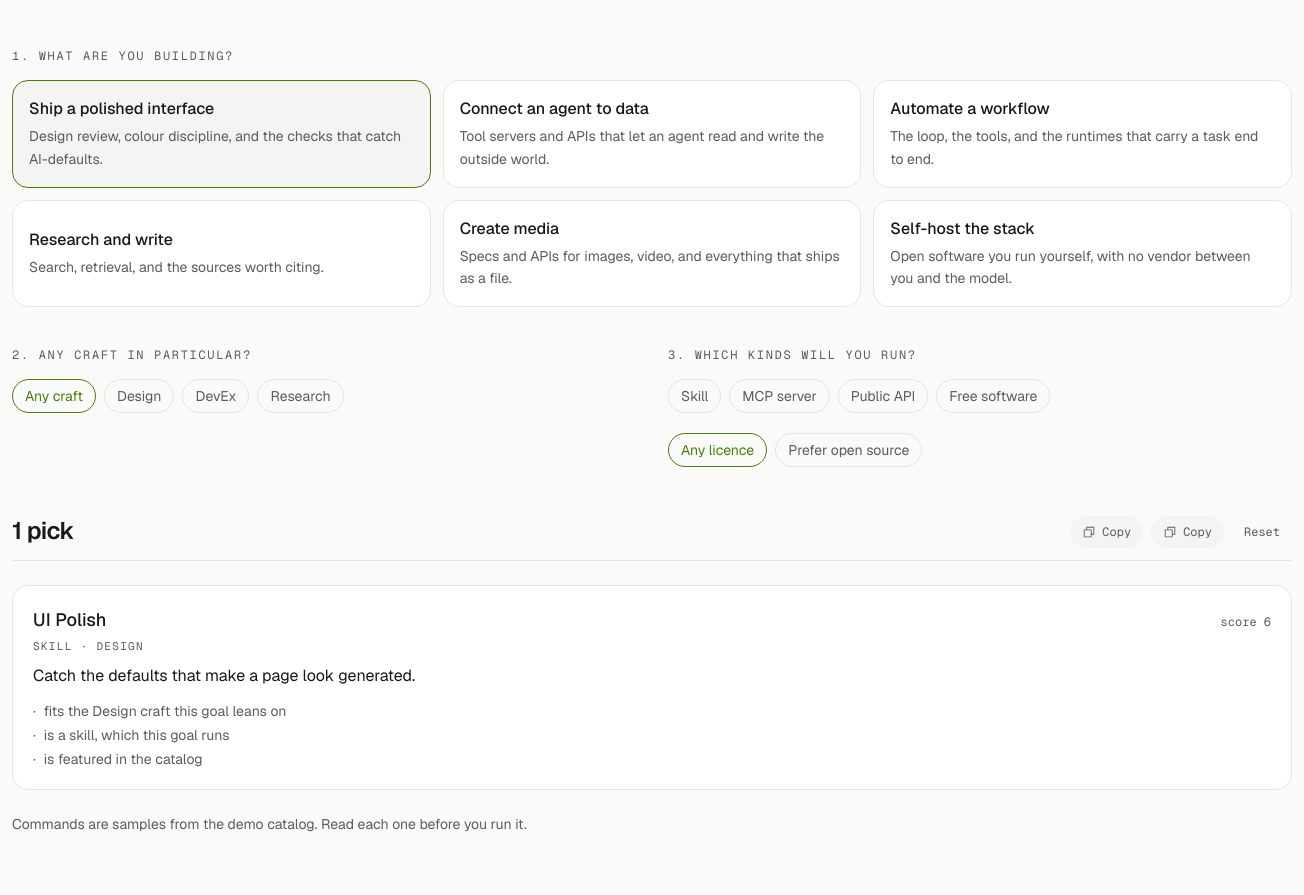
Test: StackChooser › resets every answer back to the start
Click the button "Connect an agent to data".
click(652, 134)  # box top-left (443, 80), bottom-right (861, 188)
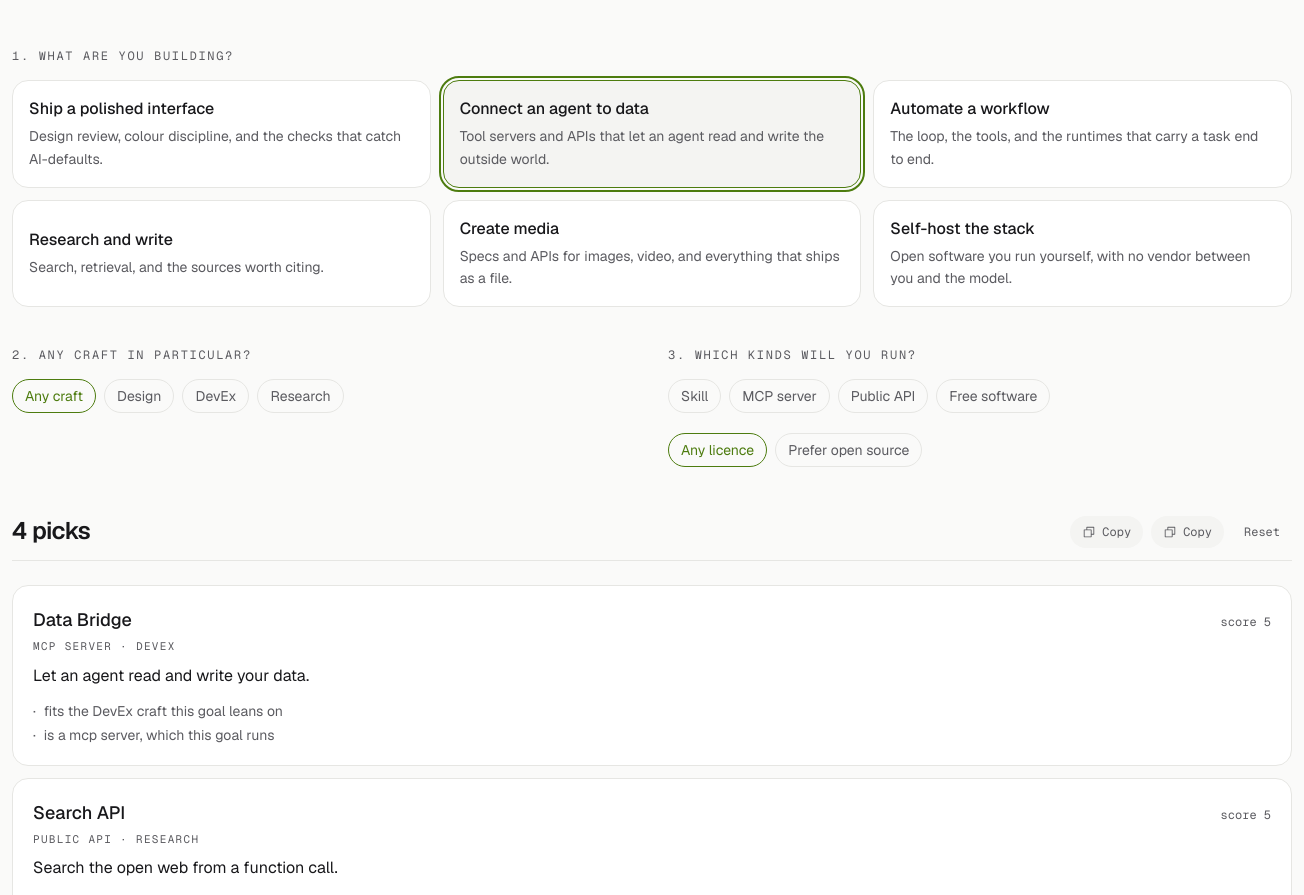
Now the heading "4 picks" is shown, box top-left (12, 515), bottom-right (90, 547)
Click the button "Reset".
click(1262, 532)  # box top-left (1232, 524), bottom-right (1292, 540)
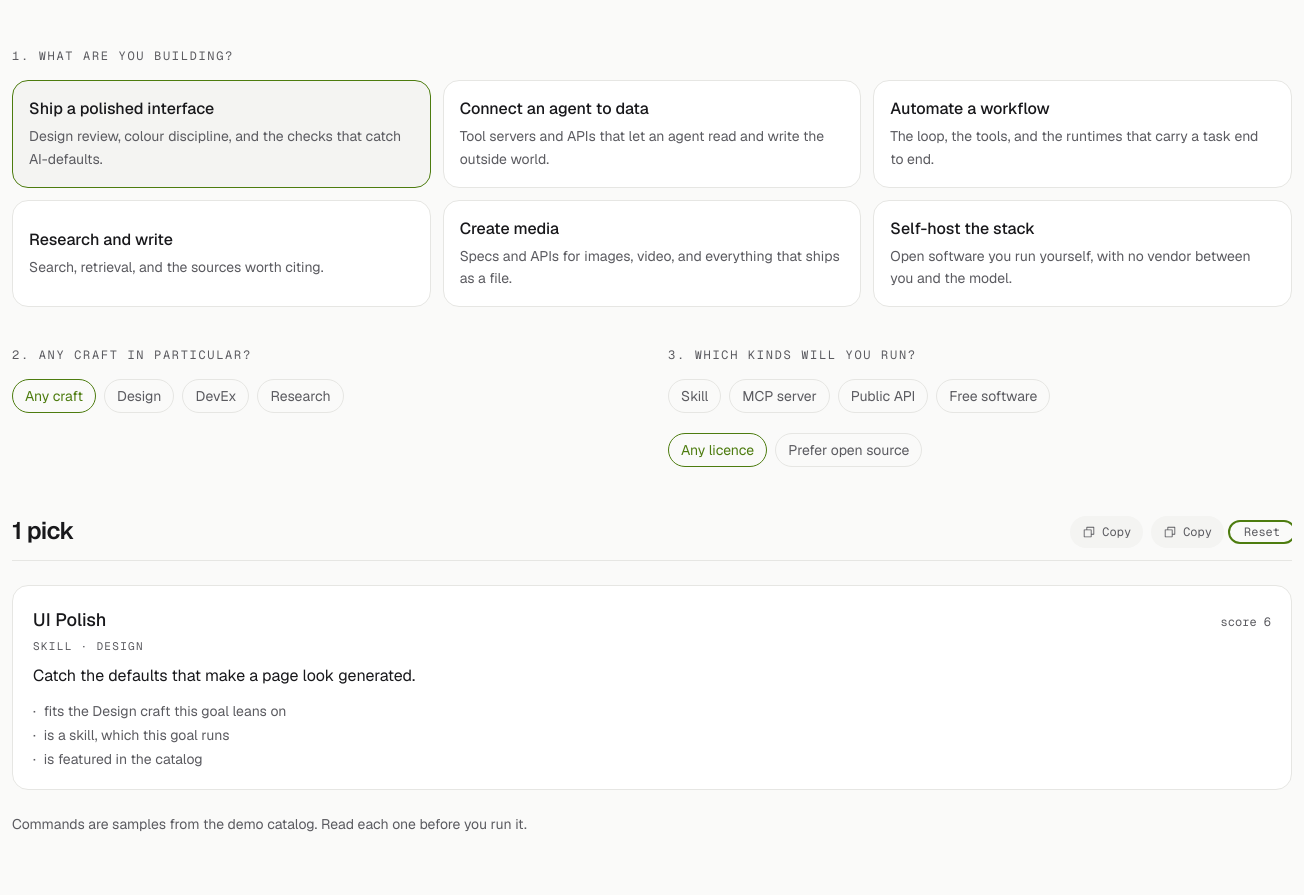
Now the heading "1 pick" is shown, box top-left (12, 515), bottom-right (74, 547)
Now the link "Data Bridge" is gone
